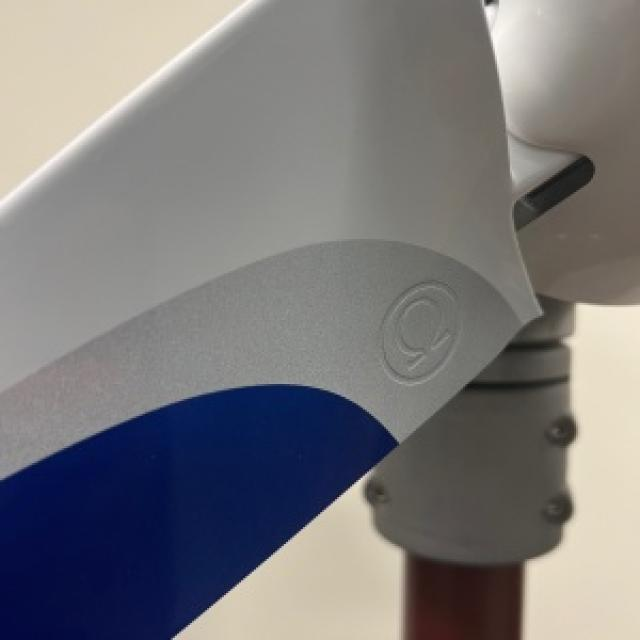healthy: (177, 480, 397, 638)
